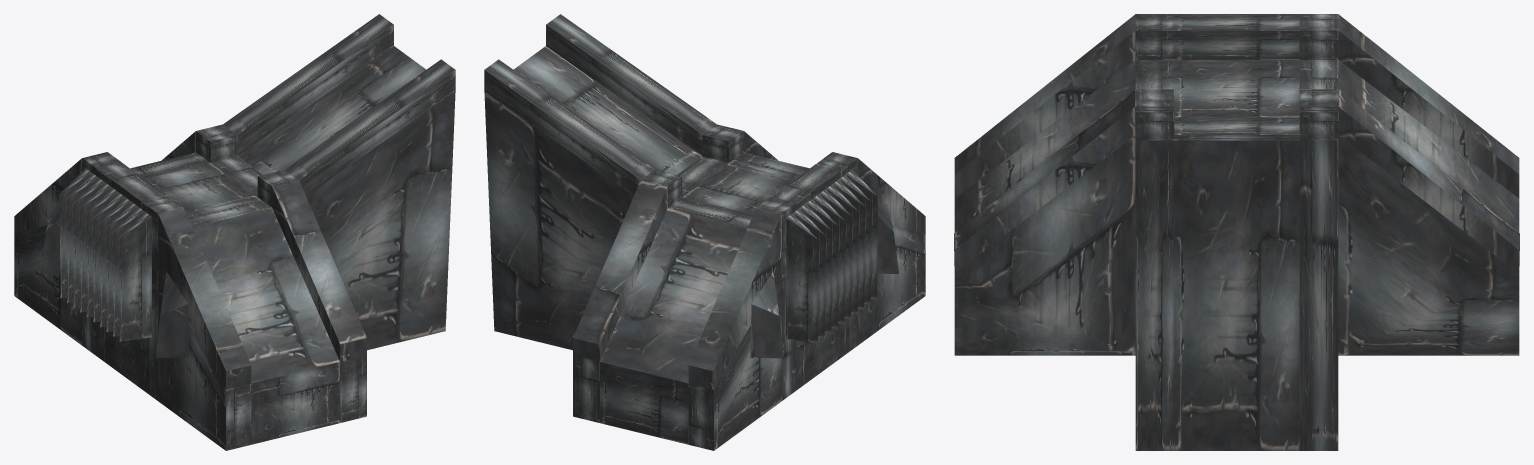
Rendered from Gate_Stairs.fbx.
The picture shows the model from 3 angles, left to right: view 1: azimuth 30°, elevation 25°; view 2: azimuth 150°, elevation 25°; view 3: azimuth 270°, elevation 25°; orthographic projection. The views are drawn at different scales.
Visible parts, largest first — view 1: icecrown_wall_ramp01; view 2: icecrown_wall_ramp01; view 3: icecrown_wall_ramp01.
Part boxes in pixels (x1,y1,x2,y2): icecrown_wall_ramp01: (14,14,455,450); icecrown_wall_ramp01: (484,14,925,450); icecrown_wall_ramp01: (954,14,1519,450).
Size of the model in its own units: 10805 by 8183 by 12155.
